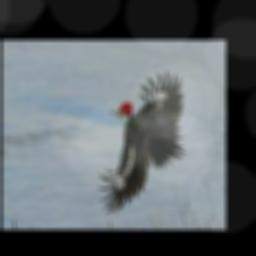Woodpecker: (97, 70, 186, 213)
